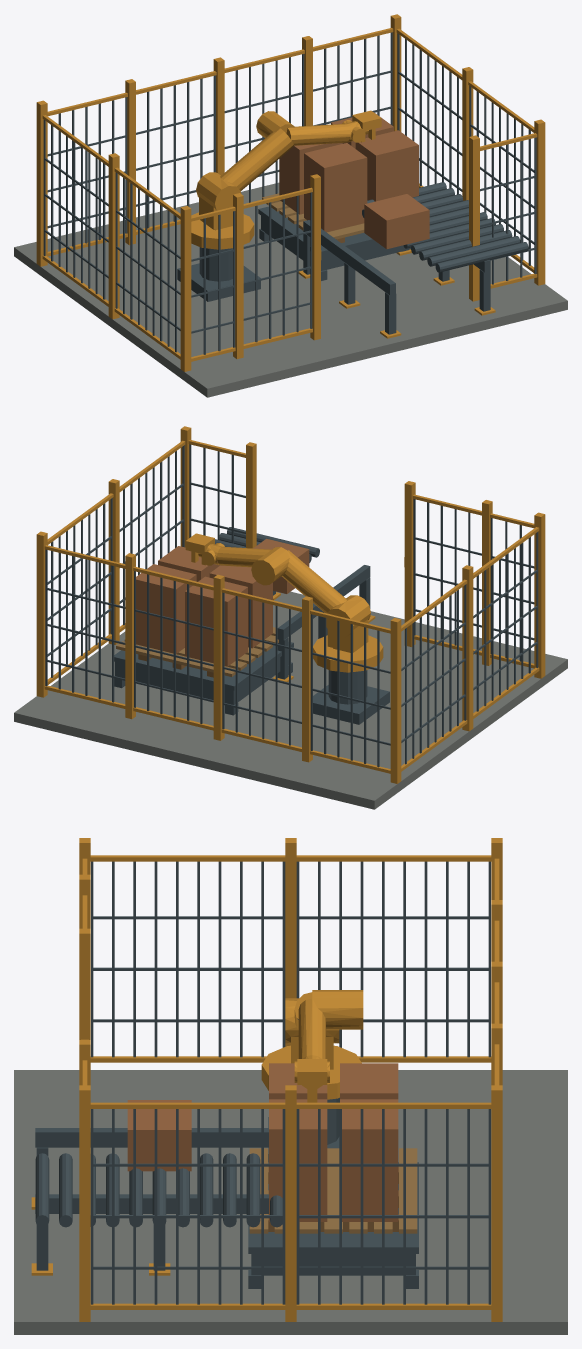
File: palletizer-after.glb
3 renders of one model, top to bottom at view 1: azimuth 30°, elevation 25°; view 2: azimuth 150°, elevation 25°; view 3: azimuth 270°, elevation 25°, orthographic. The views are drawn at different scales.
Visible parts, largest first — view 1: cell-floor, safety-fence-frame, robot-arm, west-guard-rear, west-guard-entry, east-guard-rear, infeed-carton, pallet-carton-2-1-1, pallet-carton-2-1-2, infeed-frame-left, rear-guard-center, access-gate (+18 smaller); view 2: cell-floor, safety-fence-frame, robot-arm, pallet-frame, west-guard-entry, west-guard-rear, east-guard-rear, rear-guard-west, rear-guard-end, rear-guard-east, rear-guard-center, east-guard-entry (+14 smaller); view 3: cell-floor, safety-fence-frame, east-guard-rear, east-guard-entry, west-guard-entry, west-guard-rear, robot-arm, pallet-frame, infeed-carton, pallet-carton-2-2-2, infeed-frame-left, infeed-frame-right (+16 smaller).
Boxes of the visible parts, x1=… form: cell-floor: x1=14, y1=182, x2=567, y2=397; safety-fence-frame: x1=36, y1=14, x2=545, y2=371; robot-arm: x1=191, y1=110, x2=381, y2=249; west-guard-rear: x1=43, y1=120, x2=108, y2=299; west-guard-entry: x1=115, y1=172, x2=180, y2=352; east-guard-rear: x1=397, y1=33, x2=462, y2=194; infeed-carton: x1=364, y1=194, x2=429, y2=249; pallet-carton-2-1-1: x1=304, y1=143, x2=367, y2=200; pallet-carton-2-1-2: x1=355, y1=130, x2=418, y2=187; infeed-frame-left: x1=303, y1=220, x2=396, y2=334; rear-guard-center: x1=136, y1=75, x2=215, y2=228; access-gate: x1=243, y1=192, x2=312, y2=342; cell-floor: x1=14, y1=591, x2=567, y2=809; safety-fence-frame: x1=36, y1=426, x2=545, y2=783; robot-arm: x1=185, y1=533, x2=383, y2=672; pallet-frame: x1=114, y1=642, x2=293, y2=715; west-guard-entry: x1=473, y1=532, x2=538, y2=711; west-guard-rear: x1=401, y1=584, x2=466, y2=764; east-guard-rear: x1=47, y1=498, x2=112, y2=677; rear-guard-west: x1=310, y1=614, x2=390, y2=767; rear-guard-end: x1=45, y1=549, x2=125, y2=702; rear-guard-east: x1=134, y1=571, x2=213, y2=723; rear-guard-center: x1=222, y1=592, x2=301, y2=745; east-guard-entry: x1=119, y1=445, x2=184, y2=625; cell-floor: x1=14, y1=1070, x2=567, y2=1334; safety-fence-frame: x1=79, y1=838, x2=502, y2=1321; east-guard-rear: x1=296, y1=1109, x2=490, y2=1304; east-guard-entry: x1=91, y1=1109, x2=285, y2=1304; west-guard-entry: x1=91, y1=861, x2=285, y2=1057; west-guard-rear: x1=296, y1=861, x2=490, y2=1057; robot-arm: x1=261, y1=990, x2=363, y2=1102; pallet-frame: x1=248, y1=1162, x2=418, y2=1288; infeed-carton: x1=127, y1=1100, x2=191, y2=1171; pallet-carton-2-2-2: x1=340, y1=1099, x2=398, y2=1175; infeed-frame-left: x1=35, y1=1128, x2=268, y2=1155; infeed-frame-right: x1=35, y1=1194, x2=268, y2=1270.
Bounding box in the file's own units: 4.2 × 1.9 × 3.9.
